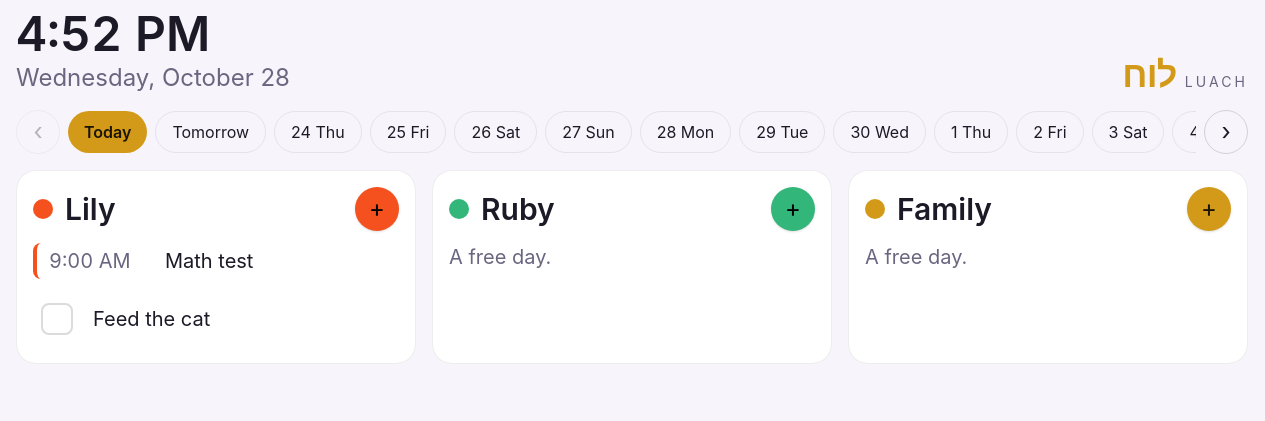
Test: holding a card on the board › a change that does not save is put back, and the board says why
expect the element "Lily" is shown: met, box [16,170,416,364]
Press the mouse on the list item "Feed the cat" at (216, 319), box [33,291,399,347]
Wait 460 ms
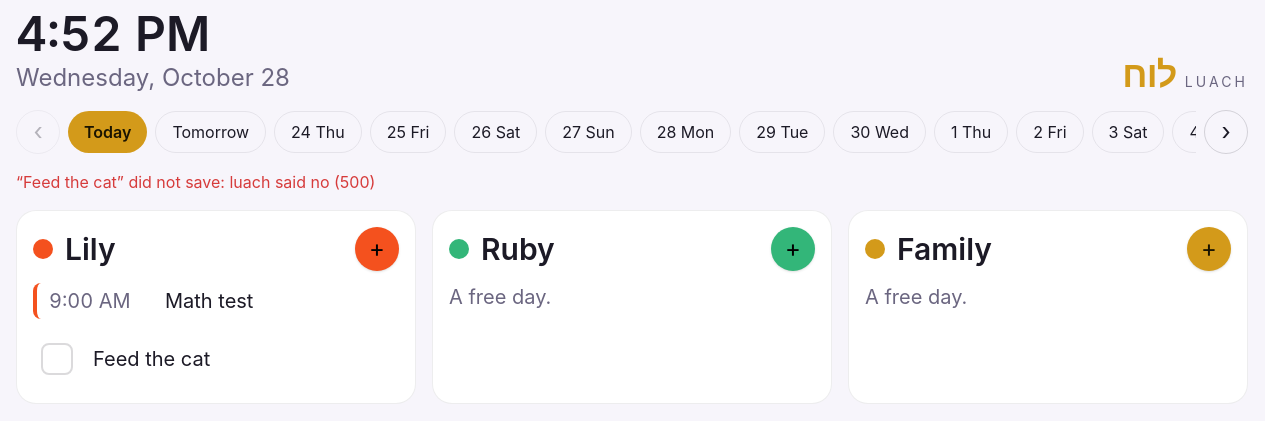
expect the text "Feed the cat" is shown: met, box [93,347,210,371]
expect the message reads "“Feed the cat” did not save: luach said no (500)": met, box [16,172,375,192]
